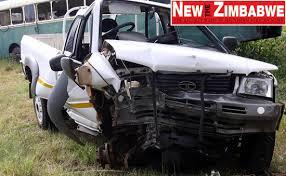bonnet-dent: (105, 43, 253, 79)
front-bumper-dent: (121, 87, 248, 142)
